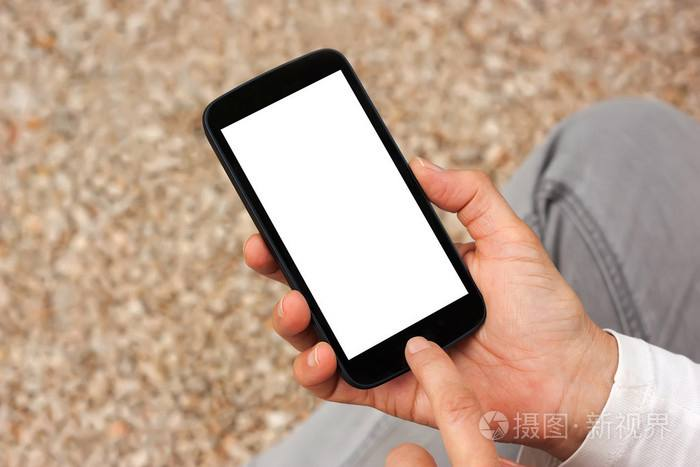reading: (192, 42, 600, 451)
